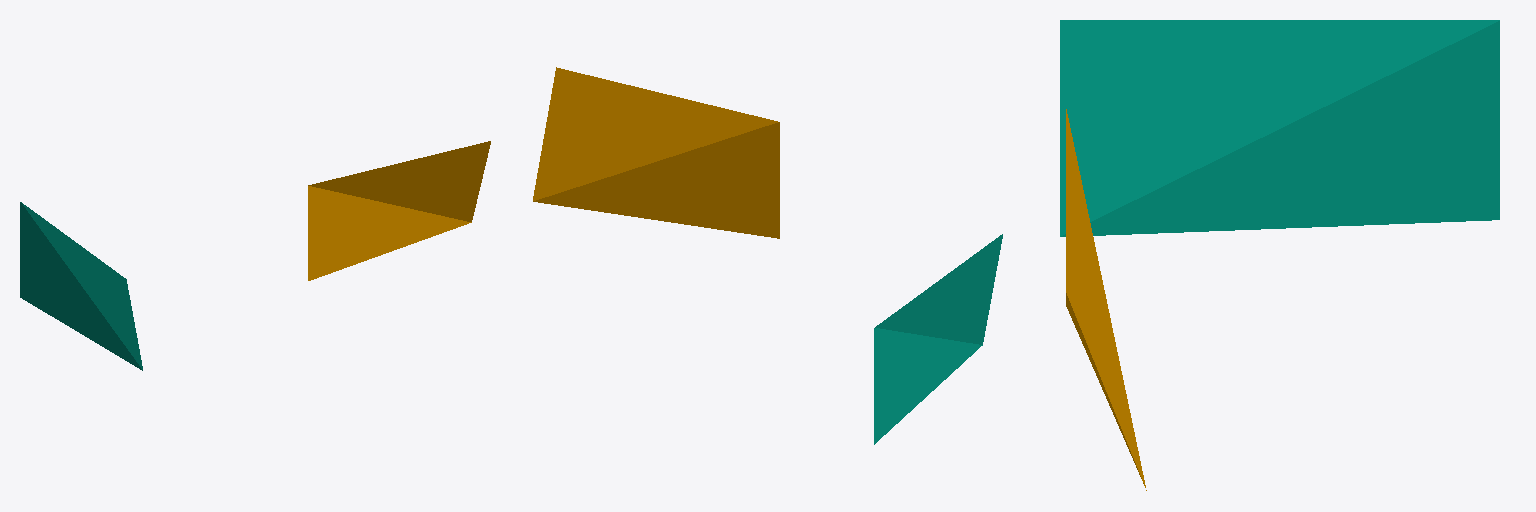
robot.urdf — collada_texture_fixture:
<robot name="collada_texture_fixture">
  <link name="base">
    <visual>
      <origin xyz="0 0 0.3" rpy="0 0 0"/>
      <geometry><mesh filename="materials/textured.dae" scale="1 1 1"/></geometry>
    </visual>
  </link>
</robot>

--- Facts derived from the render (not from the file) ---
The picture shows the robot from 3 angles, left to right: view 1: azimuth 30°, elevation 25°; view 2: azimuth 150°, elevation 25°; view 3: azimuth 270°, elevation 25°; orthographic projection.
Robot: collada_texture_fixture — 1 links, 0 joints (none); root link base; default pose: all joints at 0.
Visible links, largest first — view 1: base; view 2: base; view 3: base.
Boxes of the visible links, left/top/right/bottom form: base: left=20, top=141, right=490, bottom=370; base: left=533, top=67, right=1002, bottom=444; base: left=1060, top=20, right=1499, bottom=490.
Bounding box of the posed robot: 1.99 × 1 × 0.75 m (x, y, z).
1 mesh visuals loaded from 1 distinct referenced files (1 Collada DAE).
